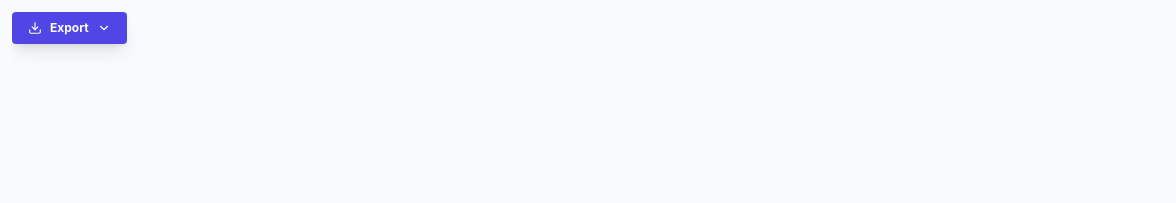
Test: choosing a format › calls that format and no other, then closes
Click the button "Export": (69, 28) [12,12,127,44]
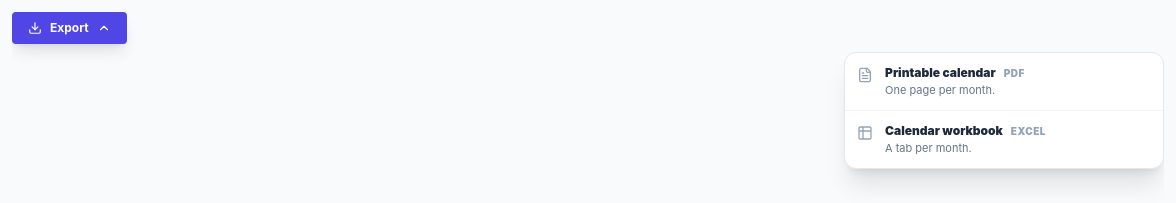
Click the menu item "Calendar workbook Excel A tab per month.": (1004, 140) [845,111,1163,168]
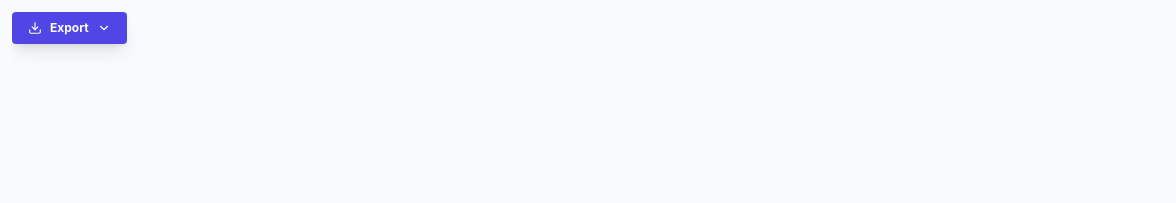
Expected: the menu is gone
